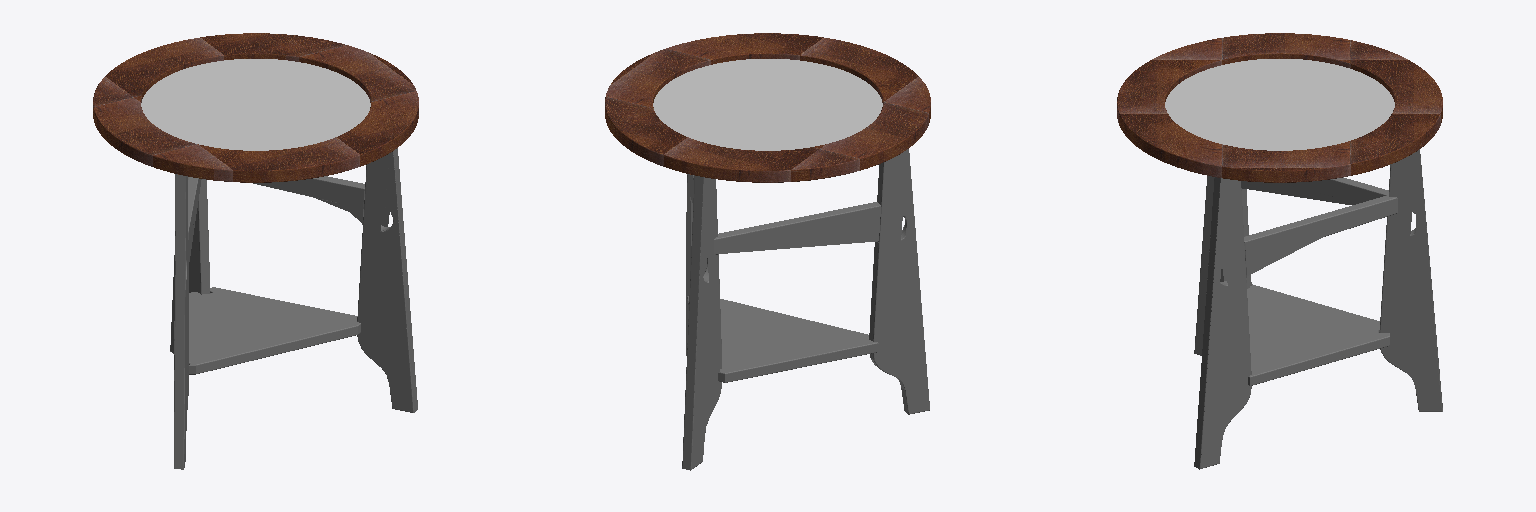
3 views of the same model, side by side, from view 1: azimuth 30°, elevation 25°; view 2: azimuth 150°, elevation 25°; view 3: azimuth 270°, elevation 25° (orthographic).
Visible parts, largest first — view 1: Cylinder001, Object001, Line008, Line011, Line003, Line012, Line002, Line005; view 2: Cylinder001, Object001, Line003, Line002, Line011, Line005, Line008; view 3: Cylinder001, Object001, Line008, Line002, Line011, Line012, Line005, Line003.
Boxes of the visible parts, <box> form: Cylinder001: <box>93,33,418,182</box>; Object001: <box>141,59,370,150</box>; Line008: <box>357,148,417,412</box>; Line011: <box>189,287,360,374</box>; Line003: <box>174,174,188,469</box>; Line012: <box>253,176,364,225</box>; Line002: <box>170,179,209,353</box>; Line005: <box>188,177,201,261</box>; Cylinder001: <box>605,33,930,182</box>; Object001: <box>653,59,882,150</box>; Line003: <box>869,149,929,414</box>; Line002: <box>682,175,721,470</box>; Line011: <box>687,296,878,382</box>; Line005: <box>714,202,880,254</box>; Line008: <box>686,174,692,355</box>; Cylinder001: <box>1117,33,1442,182</box>; Object001: <box>1165,59,1394,150</box>; Line008: <box>1194,177,1251,469</box>; Line002: <box>1379,149,1442,411</box>; Line011: <box>1247,284,1389,385</box>; Line012: <box>1244,195,1397,277</box>; Line005: <box>1241,177,1388,204</box>; Line003: <box>1194,176,1251,355</box>.
Bounding box in the file's own units: 47.24 × 49.21 × 47.24.
5 materials, 1 textured.